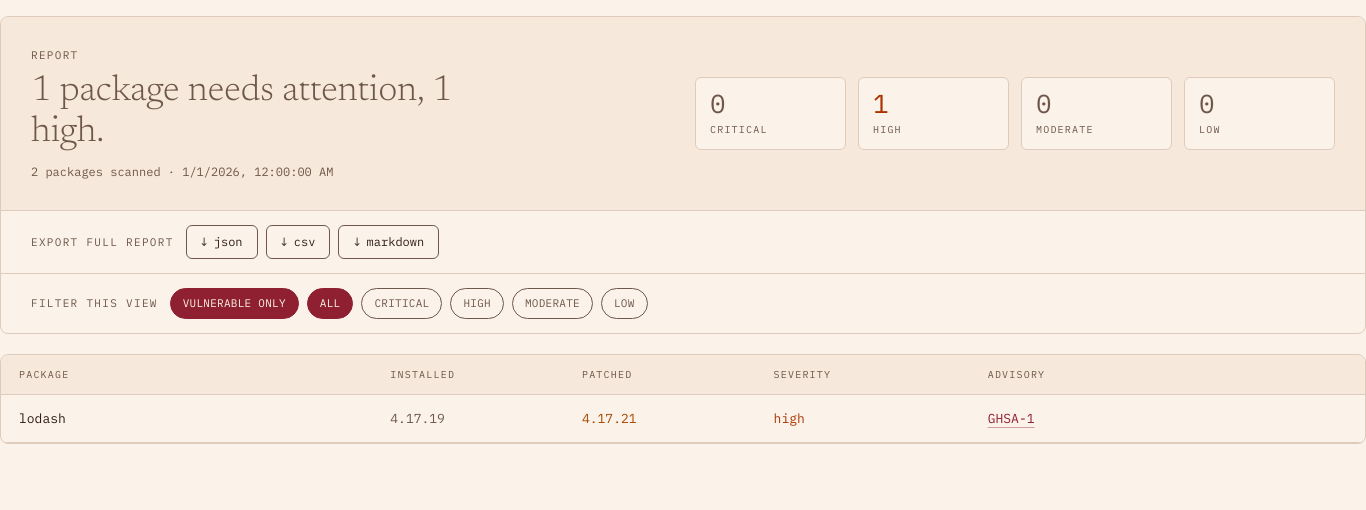
Test: filters › hides clean rows by default and reveals them when toggled off
The image size is (1366, 510).
Expected: the text "no known advisories" is not shown
Step 1. Click the button "vulnerable only" → x=234, y=304, box [170,288,299,319]
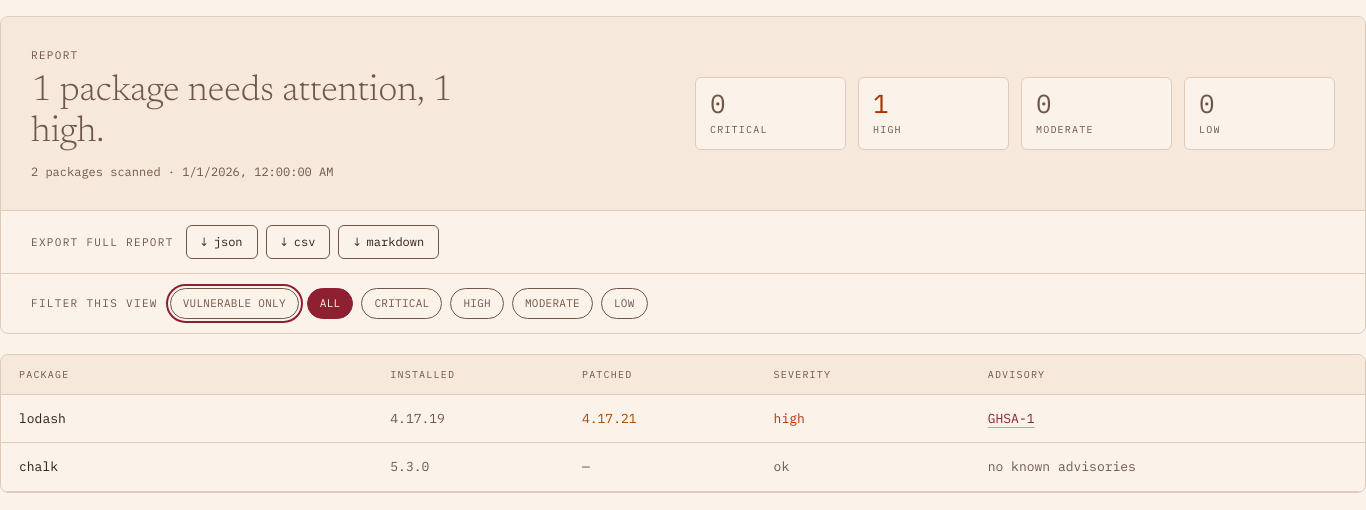
Expected: the text "no known advisories" is shown, [988,458,1136,475]
